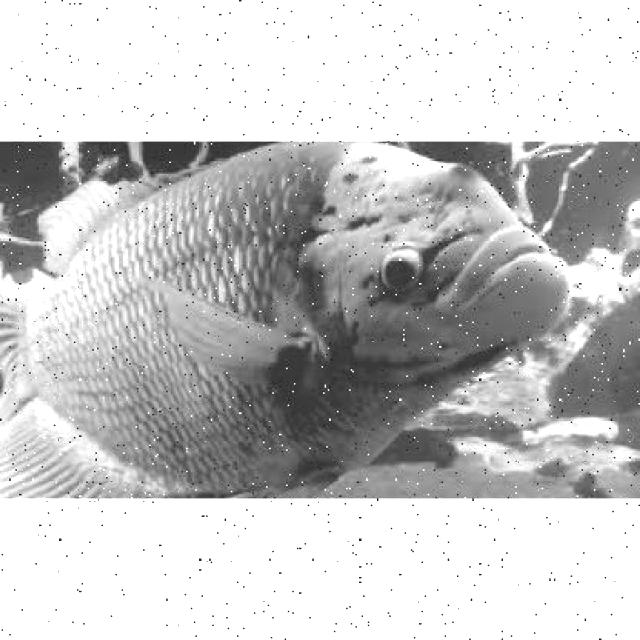gurame: (1, 140, 572, 497)
